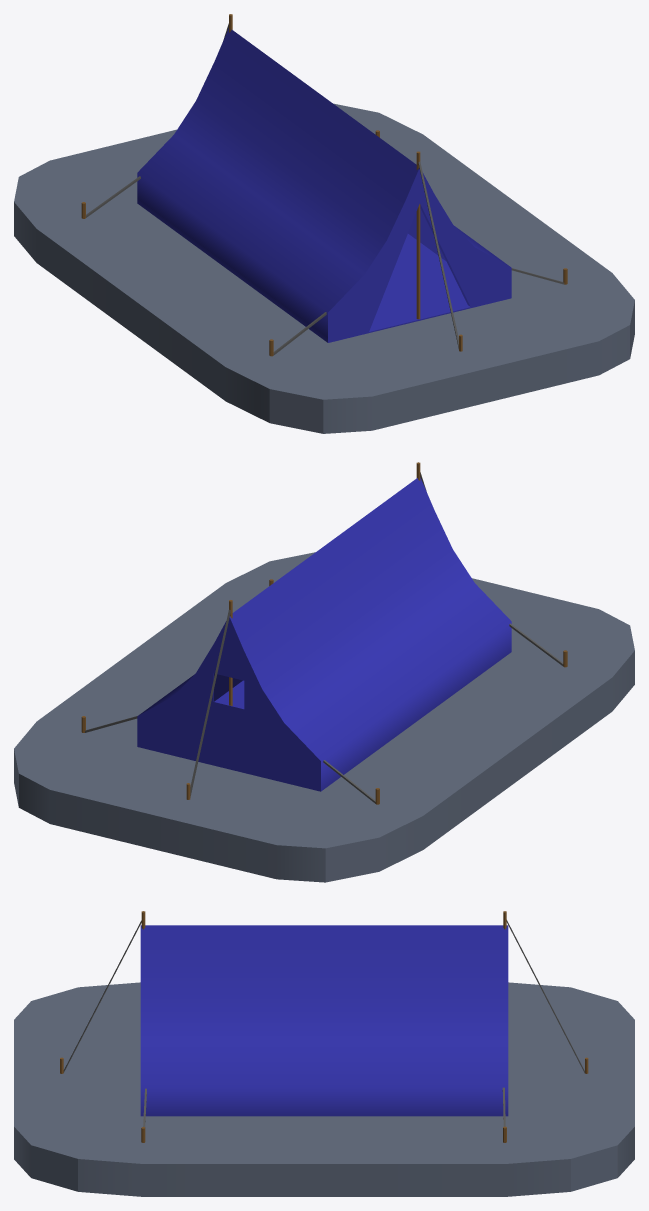
File: Tent_Blue.fbx
3 views of the same model, one above another, from view 1: azimuth 30°, elevation 25°; view 2: azimuth 150°, elevation 25°; view 3: azimuth 270°, elevation 25° (orthographic). The views are drawn at different scales.
Parts seen in each view (by area): view 1: Tent; view 2: Tent; view 3: Tent.
Part boxes in pixels (box(x1,y1,x2,y2)): Tent: box(14, 14, 634, 433); Tent: box(14, 462, 634, 882); Tent: box(14, 911, 634, 1196).
Bounding box in the file's own units: 10.53 × 5.24 × 15.2.
